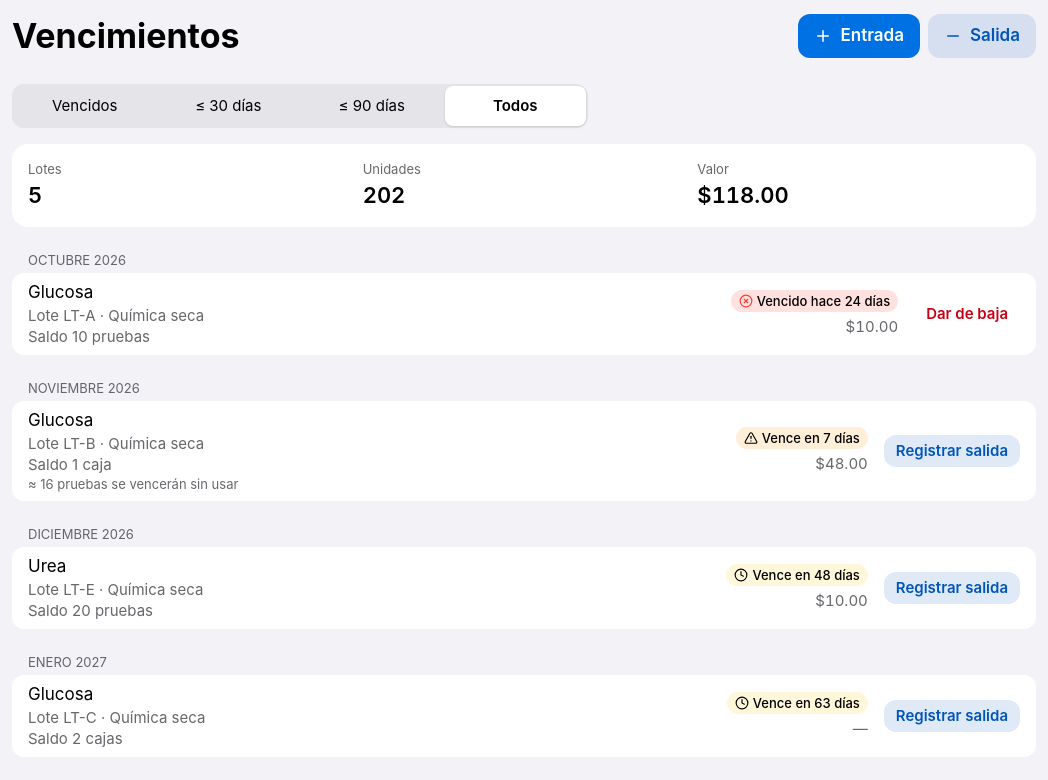
ExpiringPage › keeps the filter in the URL when it changes
The width and height of the screenshot is (1048, 780).
Step 1. Click the radio button labelled "Vencidos" → click(85, 106), box [14, 86, 156, 126]
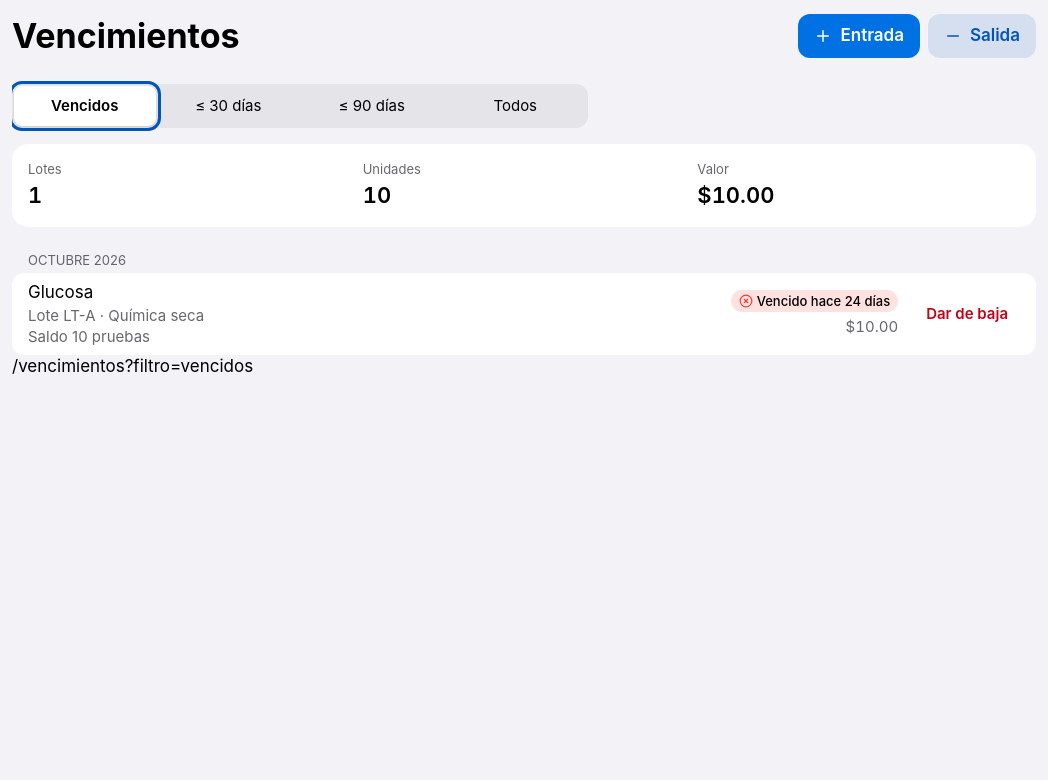
Result: the text with test id "location" reads "/vencimientos?filtro=vencidos" at [12, 356, 253, 376]
Result: the number of list items is 1 at [12, 273, 1036, 355]
Step 2. Click the radio button labelled "≤ 90 días" → click(372, 106), box [301, 86, 442, 126]
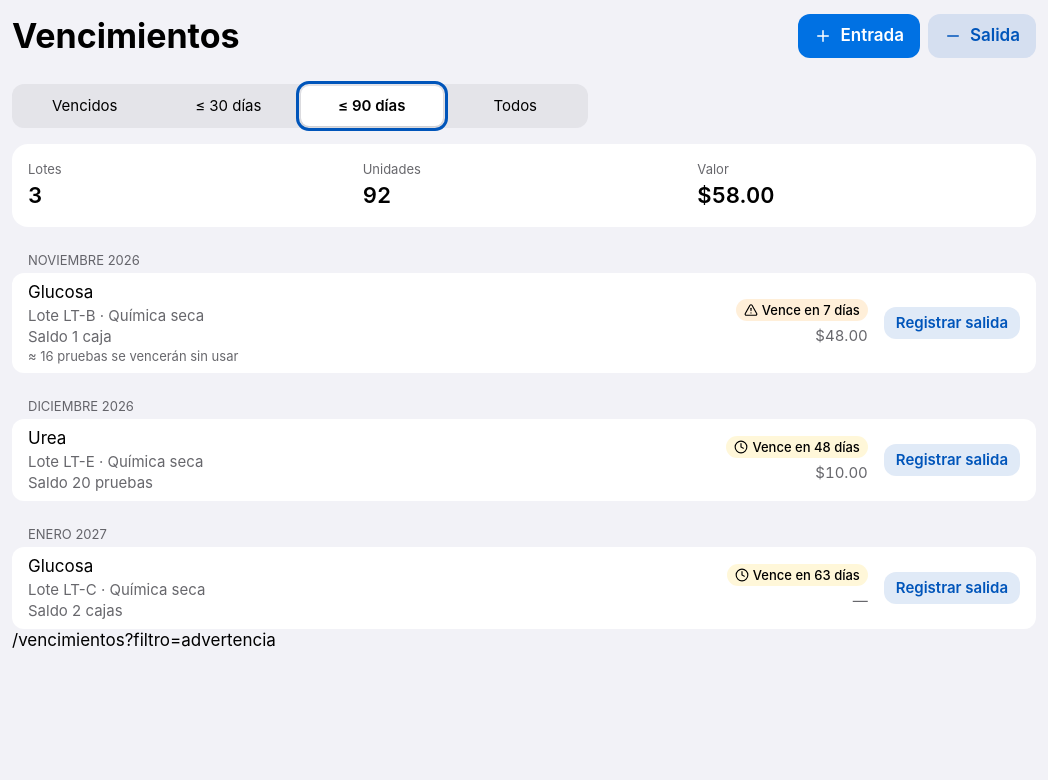
Result: the text with test id "location" reads "/vencimientos?filtro=advertencia" at [12, 630, 276, 650]
